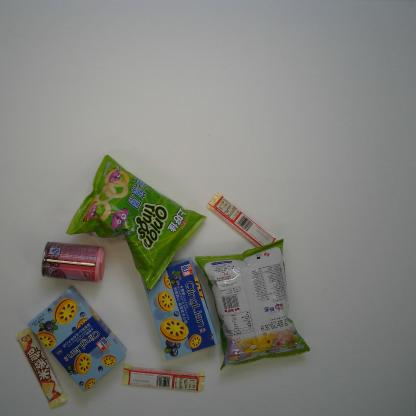Canned Food: (41, 240, 107, 283)
Chocolate: (15, 328, 68, 409), (206, 192, 278, 248), (121, 364, 205, 392)
Dessert: (27, 286, 127, 394), (140, 256, 218, 361)
Puffed Food: (66, 153, 208, 290), (194, 238, 311, 371)
